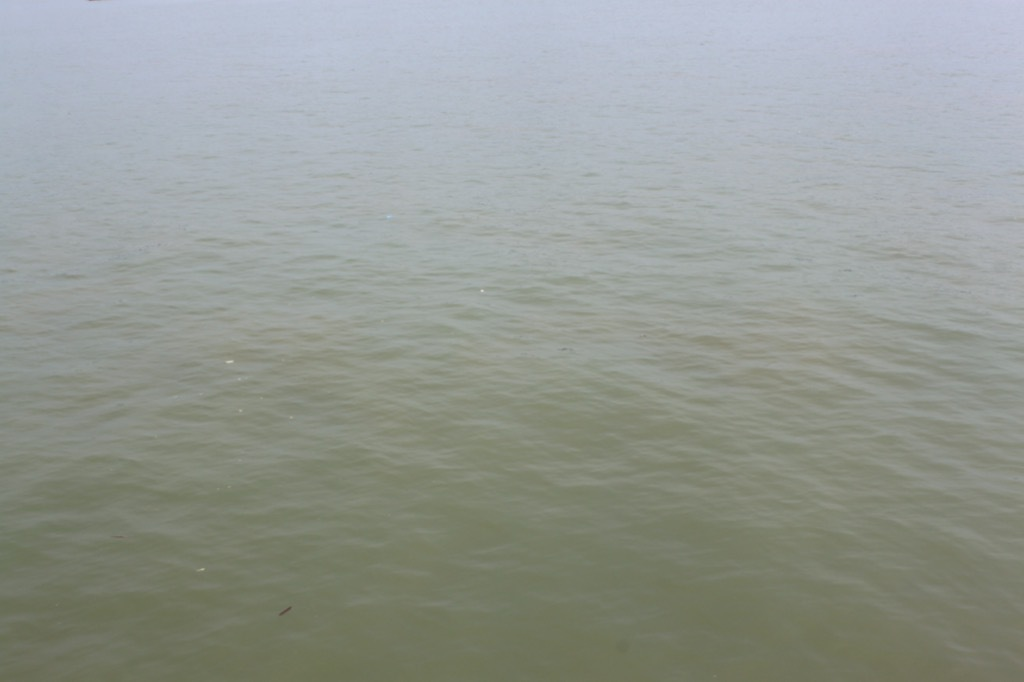organic: (272, 599, 301, 624)
plastic: (194, 564, 208, 575), (223, 356, 236, 366), (383, 213, 397, 222), (284, 411, 295, 421), (235, 373, 243, 383), (235, 405, 244, 413), (479, 285, 485, 297)
